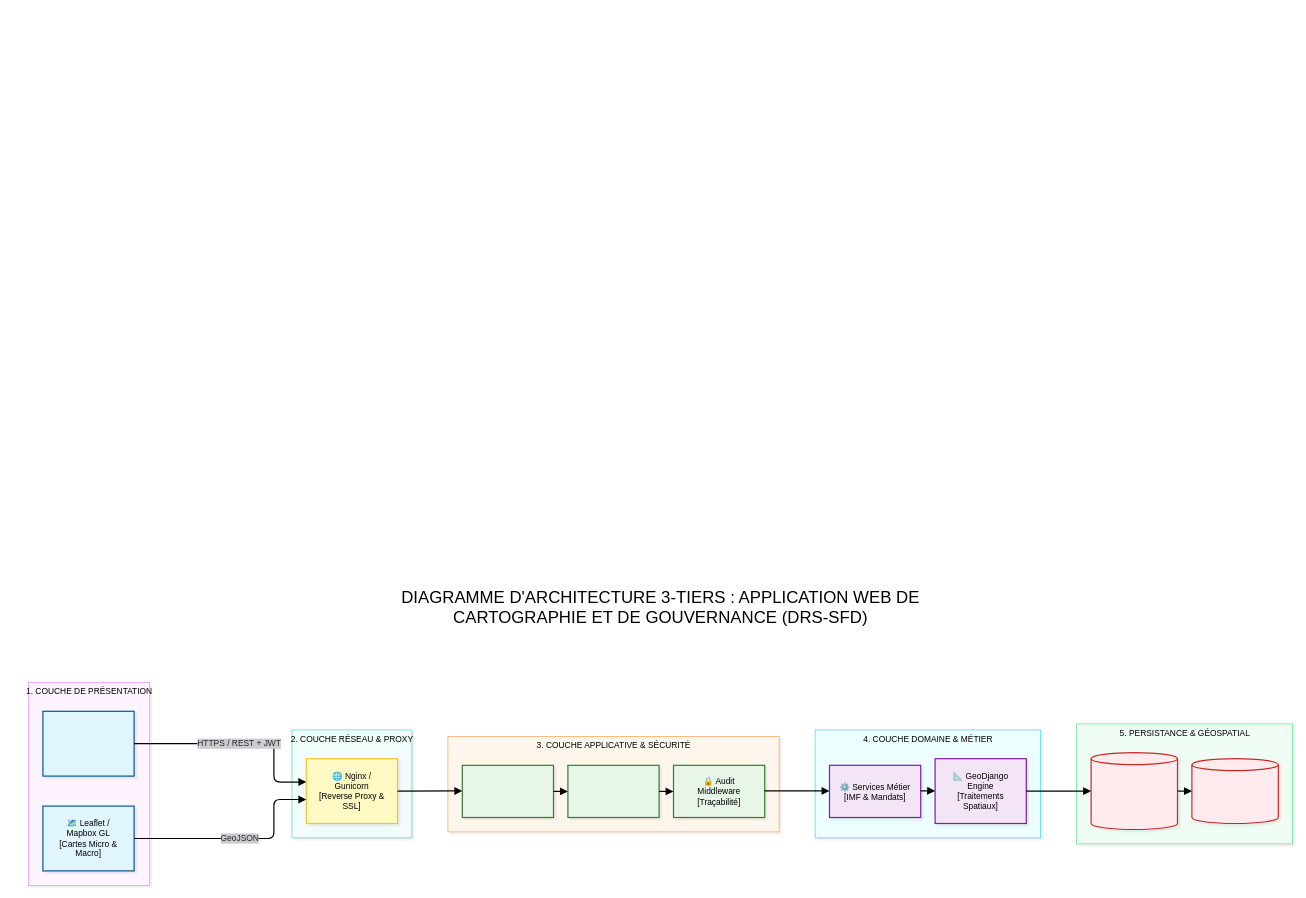
Image size: 1306x898. Some labels were removed from this diagram. The centre of each missing label's shape, as x and y in pixels:
⚛️ React.js & Vite [Dashboard & Forms]: point (89, 744)
🌍 PostGIS [Index GiST]: point (1236, 792)
🐍 Django REST Framework [API Endpoints]: point (508, 792)
🐘 PostgreSQL 16 [Relationnel]: point (1135, 792)
🛡️ RBAC Middleware [Rôles V1]: point (614, 792)
